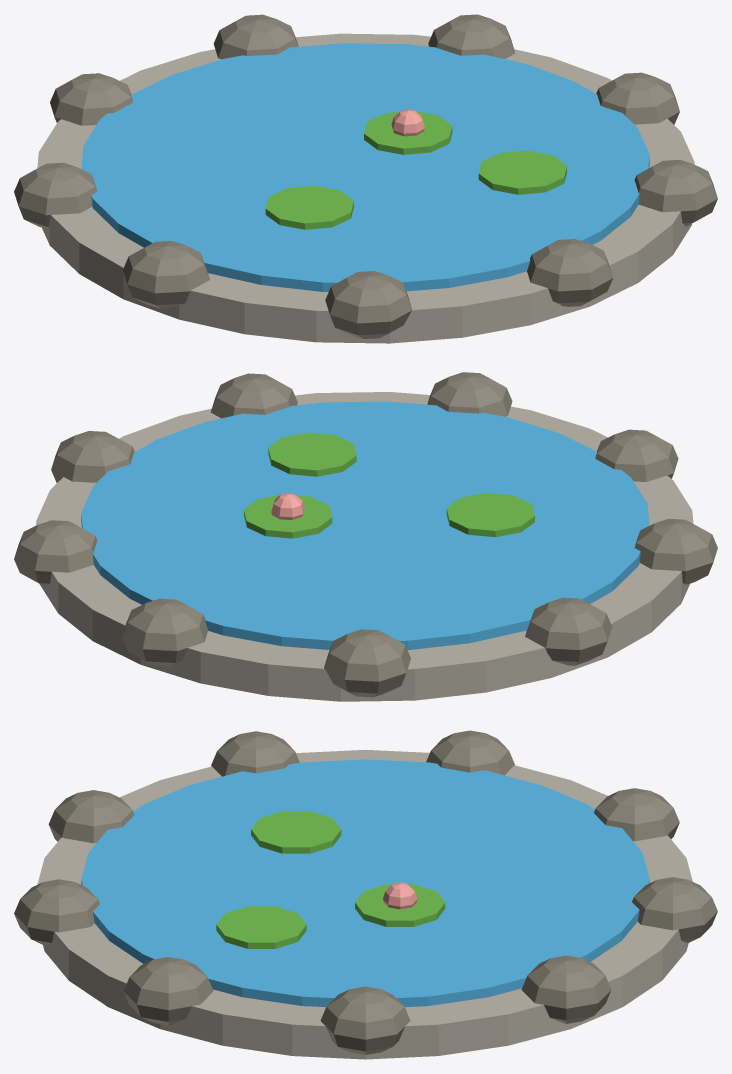
File: pond.glb
3 views of the same model, one above another, from view 1: azimuth 30°, elevation 25°; view 2: azimuth 150°, elevation 25°; view 3: azimuth 270°, elevation 25° (orthographic).
Visible parts, largest first — view 1: pond; view 2: pond; view 3: pond.
Boxes of the visible parts, x1,y1,x2,y2 form: pond: (14,14,717,343); pond: (14,372,717,701); pond: (14,730,717,1059).
Bounding box in the file's own units: 2.01 × 0.21 × 2.03.
